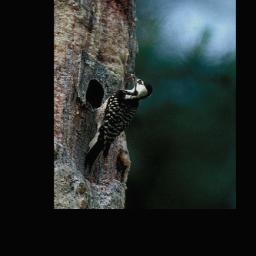Woodpecker: (85, 72, 154, 175)
